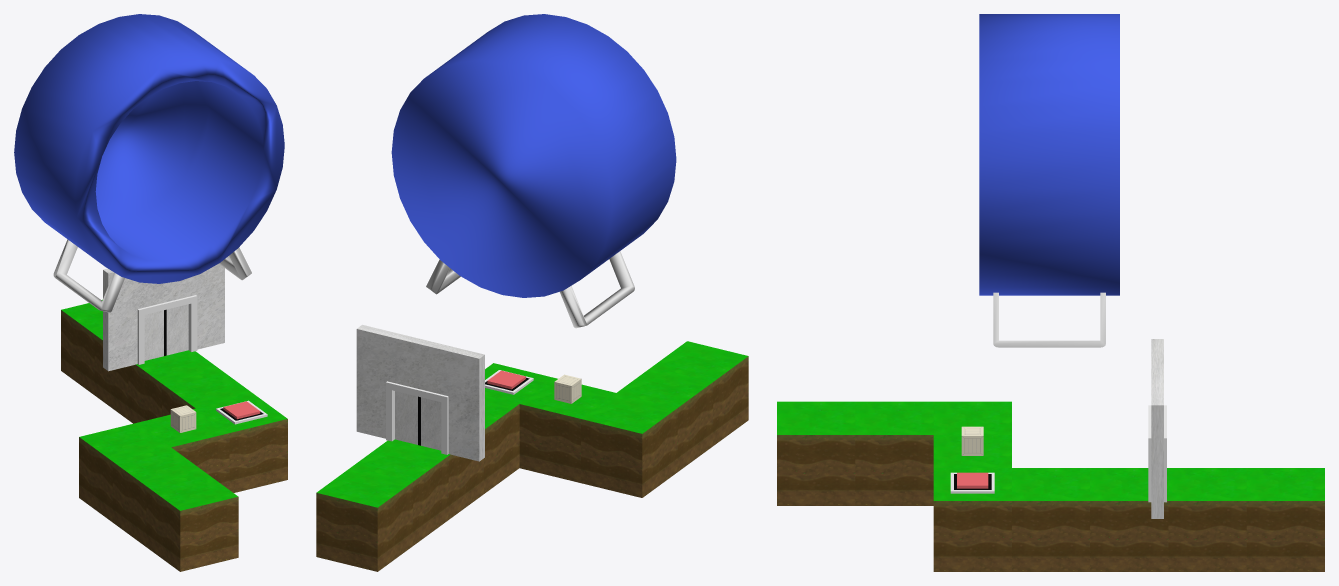
Rendered from stage1.gltf.
The picture shows the model from 3 angles, left to right: view 1: azimuth 30°, elevation 25°; view 2: azimuth 150°, elevation 25°; view 3: azimuth 270°, elevation 25°; orthographic projection. The views are drawn at different scales.
Visible parts, largest first — view 1: 立方体.002, Cube.002, Cube, Cube.006, Cube.004, Cube.003, Cube.008, Cube.005, Cube.010, Cube.007, Cube.009, Cube.001 (+1 smaller); view 2: 立方体.002, Cube.002, Cube.010, Cube.003, Cube.005, Cube.004, Cube, Cube.009, Cube.007, Cube.008, Cube.006, Cube.001 (+1 smaller); view 3: 立方体.002, Cube.004, Cube, Cube.009, Cube.010, Cube.007, Cube.008, Cube.006, Cube.002, Cube.003, Cube.005, Cube.001 (+1 smaller).
Part boxes in pixels (x1,y1,x2,y2): 立方体.002: (14,14,284,312); Cube.002: (103,263,224,371); Cube: (146,472,238,571); Cube.006: (196,394,287,492); Cube.004: (112,447,204,546); Cube.003: (79,422,170,522); Cube.008: (128,350,219,423); Cube.005: (138,408,229,489); Cube.010: (61,299,102,394); Cube.007: (162,369,253,416); Cube.009: (94,332,128,419); Cube.001: (216,400,267,424); 立方体.002: (391,14,676,328); Cube.002: (356,324,484,461); Cube.010: (316,467,413,571); Cube.003: (581,393,677,497); Cube.005: (519,378,615,482); Cube.004: (617,367,713,471); Cube: (652,341,748,445); Cube.009: (352,441,448,545); Cube.007: (484,395,519,493); Cube.008: (387,439,483,519); Cube.006: (485,363,554,403); Cube.001: (485,370,533,394); 立方体.002: (979,14,1119,347); Cube.004: (855,401,933,505); Cube: (777,401,855,505); Cube.009: (1168,468,1246,571); Cube.010: (1246,468,1324,571); Cube.007: (1012,468,1089,571); Cube.008: (1090,468,1168,571); Cube.006: (933,468,1011,571); Cube.002: (1148,339,1166,518); Cube.003: (933,401,1011,434); Cube.005: (933,435,1011,467); Cube.001: (950,472,994,493).
Size of the model in its own units: 1.92 by 3.49 by 3.5.
39 materials, 31 textured.
